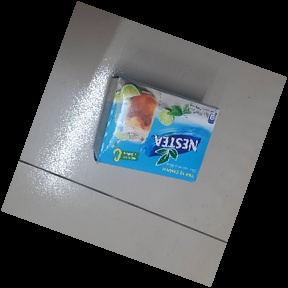Nestea: (93, 74, 221, 182)
